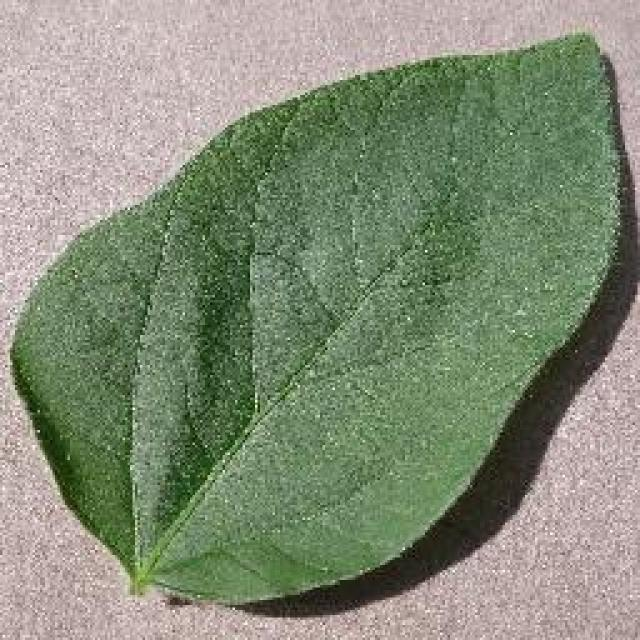Soy_healthy: (34, 65, 601, 534)
